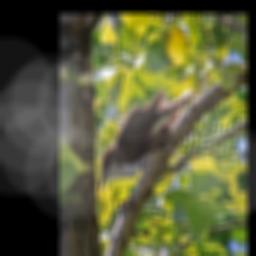Cuckoo: (98, 82, 209, 195)
